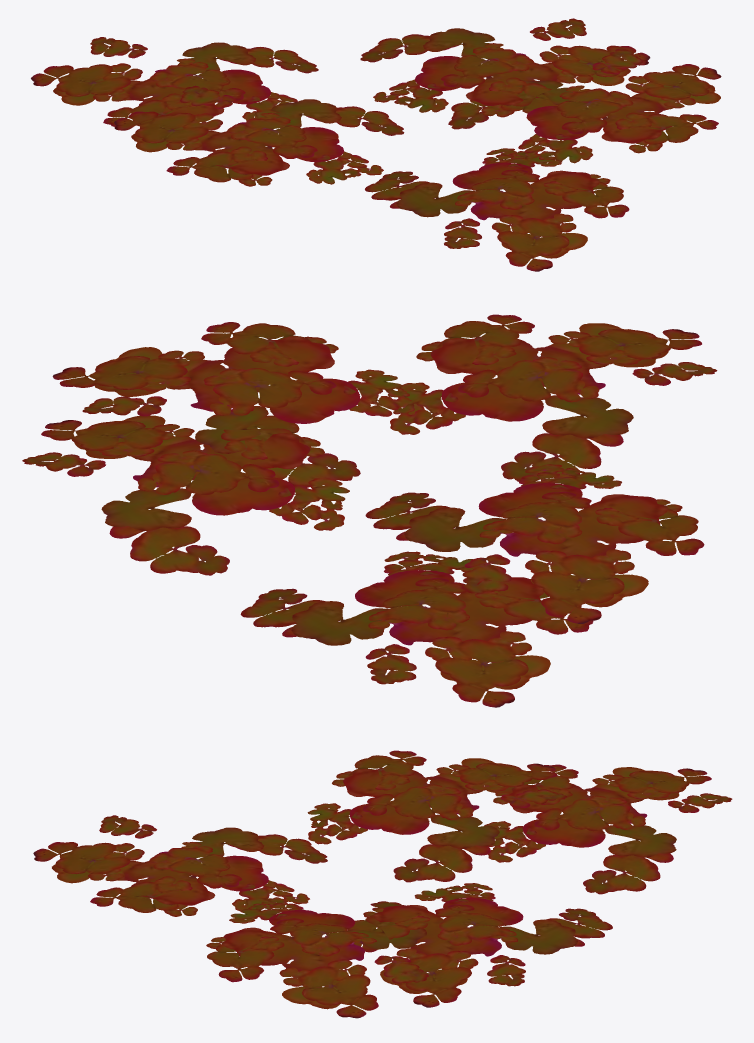
The picture shows the model from 3 angles, top to bottom: view 1: azimuth 30°, elevation 25°; view 2: azimuth 150°, elevation 25°; view 3: azimuth 270°, elevation 25°; orthographic projection. The views are drawn at different scales.
Visible parts, largest first — view 1: SM_UmbS_Sorrel_01_LOD0; view 2: SM_UmbS_Sorrel_01_LOD0; view 3: SM_UmbS_Sorrel_01_LOD0.
Boxes of the visible parts, bbox=[...] form: SM_UmbS_Sorrel_01_LOD0: bbox=[31, 18, 721, 271]; SM_UmbS_Sorrel_01_LOD0: bbox=[22, 314, 717, 707]; SM_UmbS_Sorrel_01_LOD0: bbox=[33, 750, 732, 1018].
Bounding box in the file's own units: 0.782 × 0.0452 × 0.8798.
Materials: 1 (1 with a texture image).
